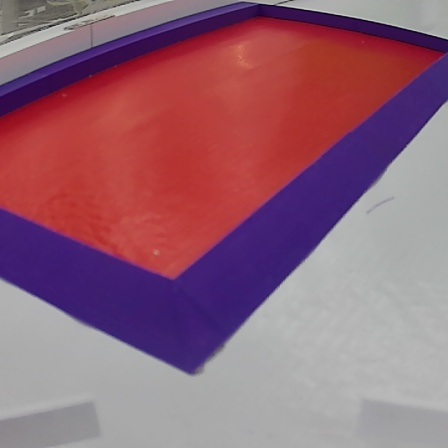red_aim: (0, 1, 448, 377)
